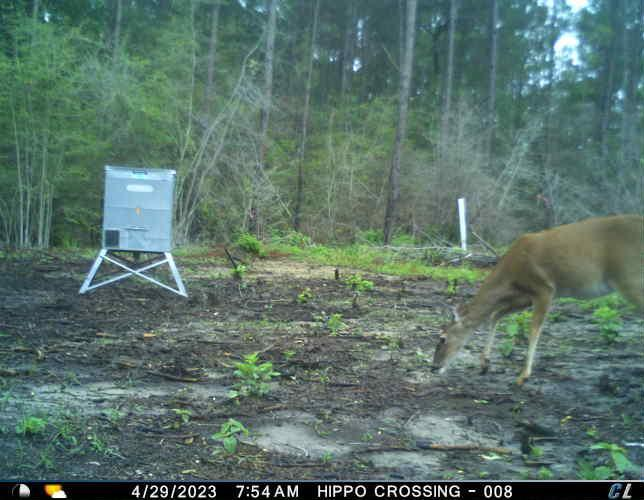Deer: (431, 211, 644, 396)
